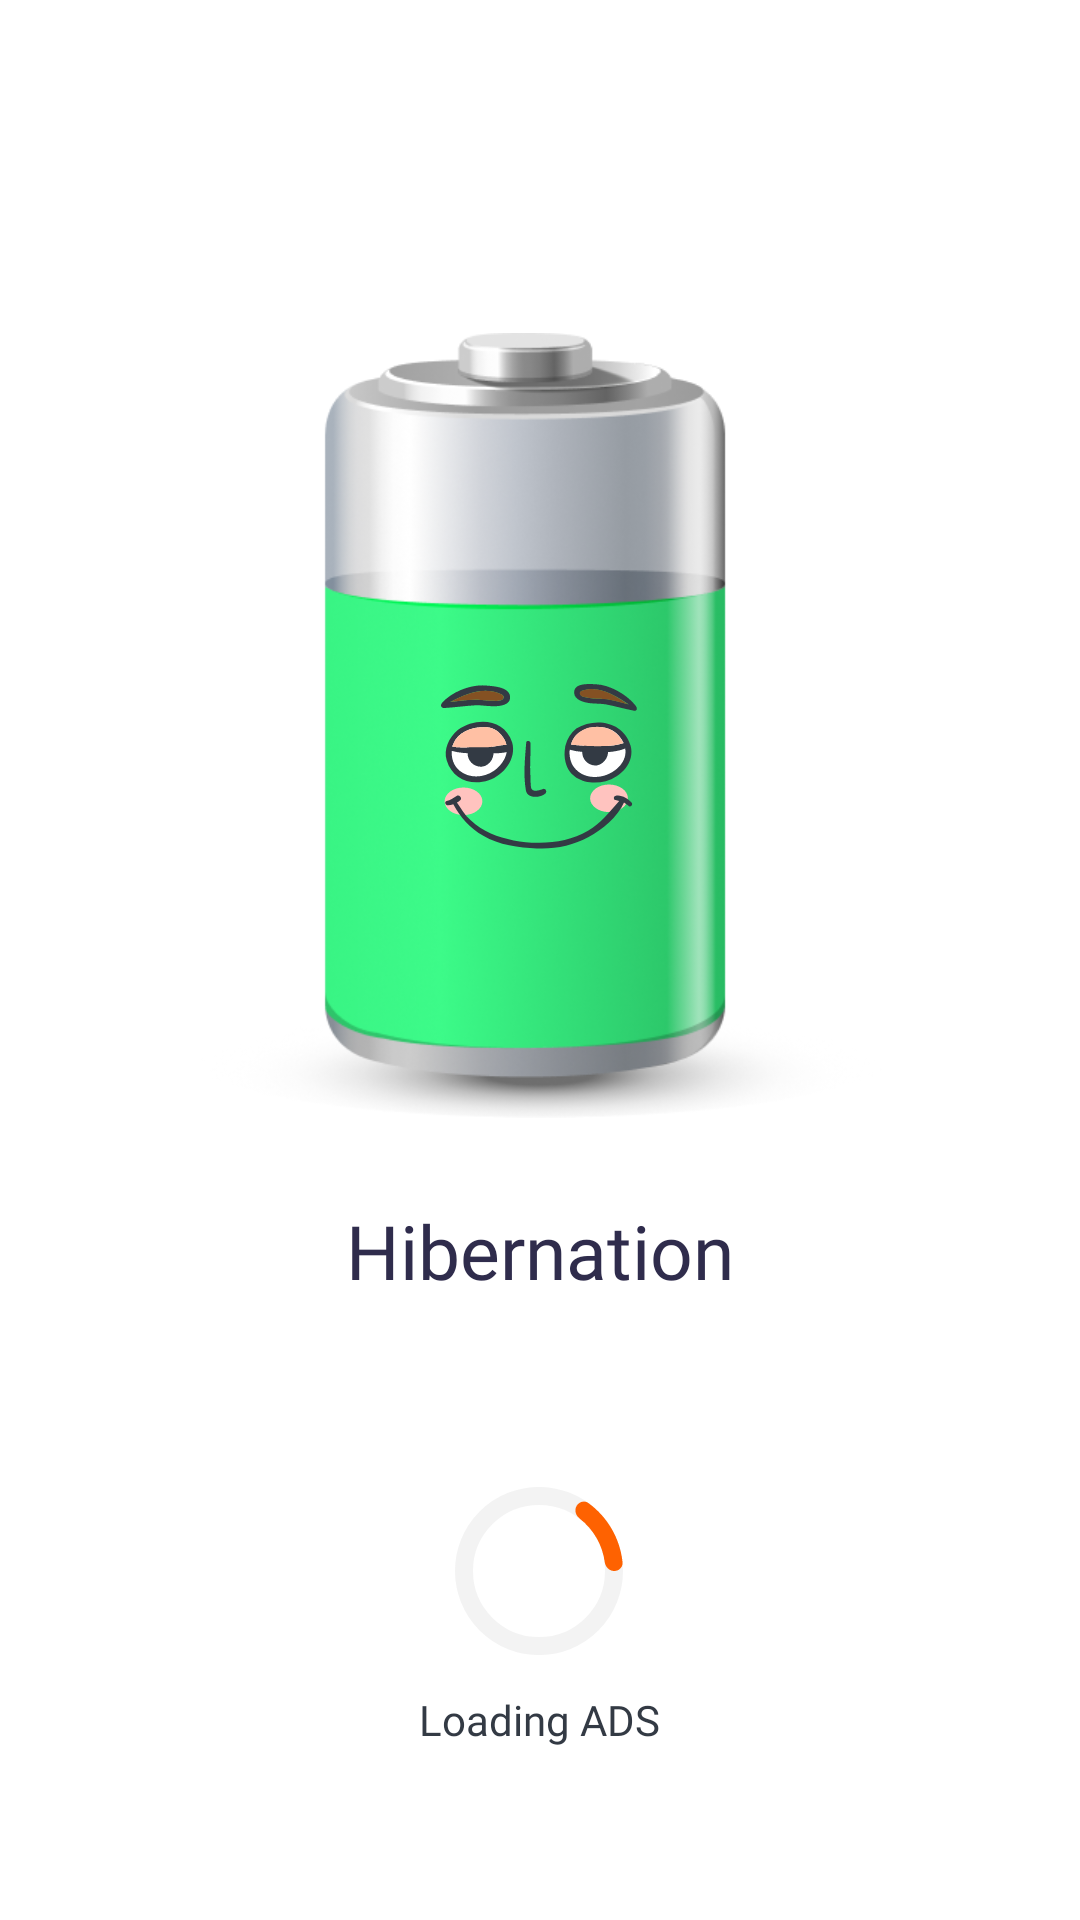

Screen size 1080px×1920px. Icon name, then its center in pixels as point (x, y):
battery smile: point (540, 766)
